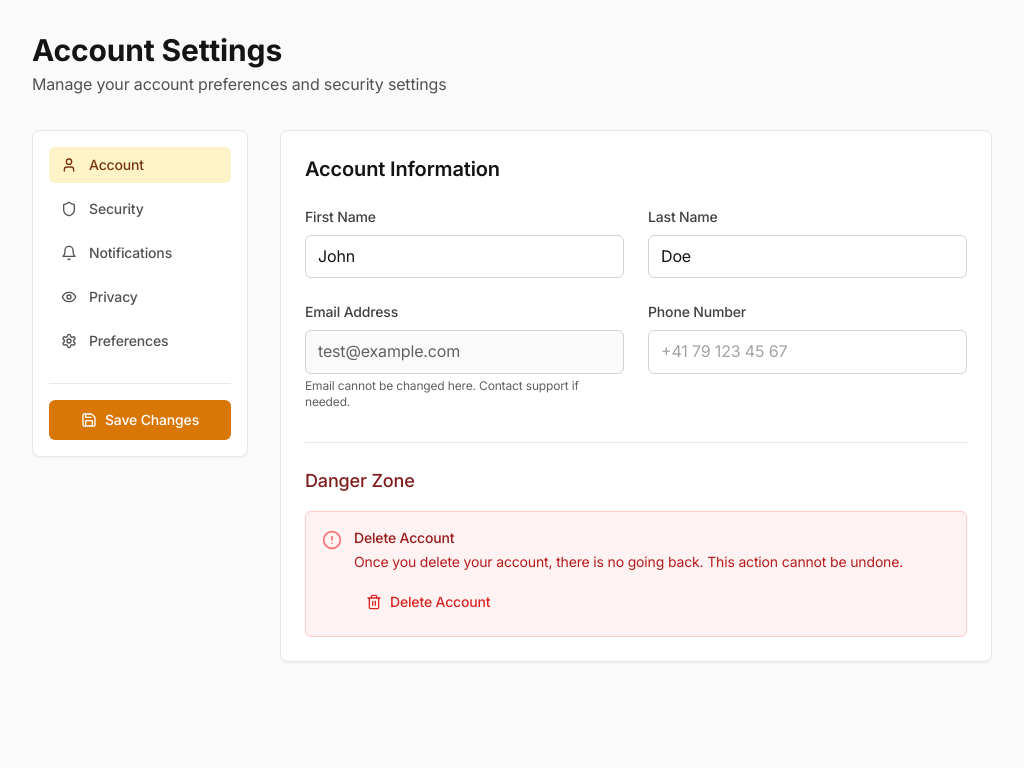
SettingsPage › 💾 Save Functionality › should show success message after successful save
The image size is (1024, 768).
Click the button "Save Changes".
click(140, 420)  # box left=49, top=400, right=231, bottom=440
Wait 1000 ms
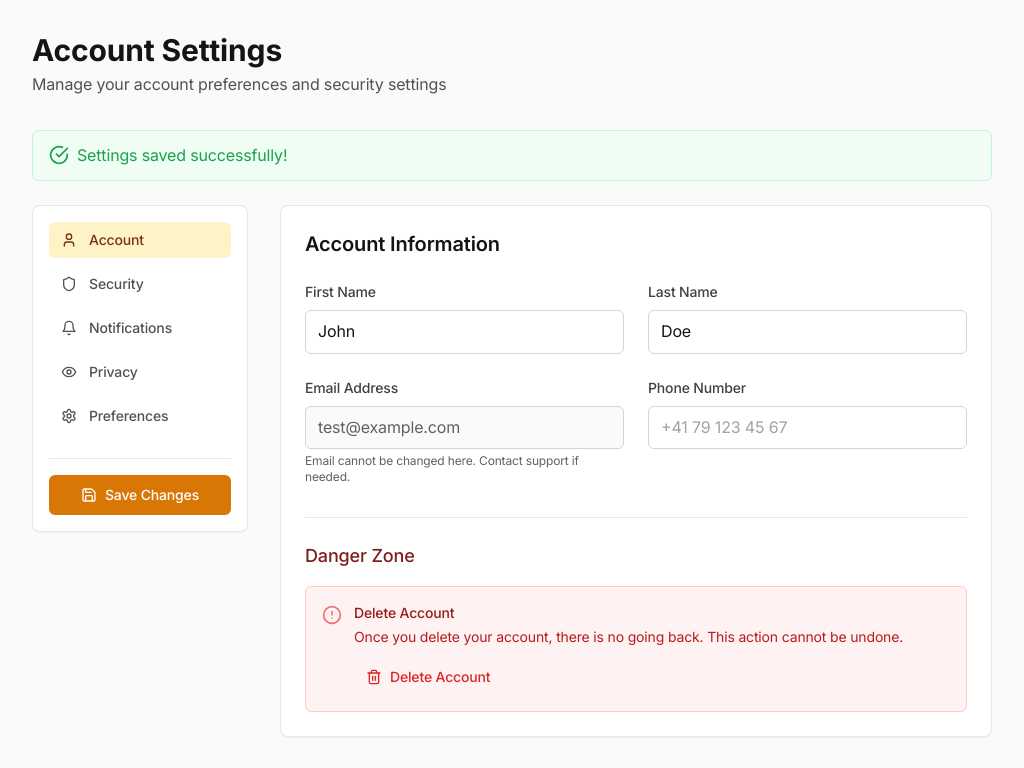
Check: the text "Settings saved successfully!" is shown, box left=32, top=130, right=992, bottom=181
